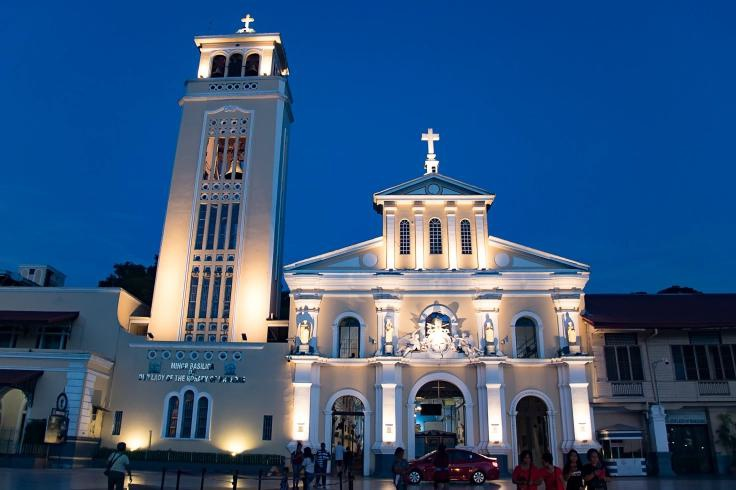manaoag_church_manaoag_pangasinan: (146, 6, 595, 471)
